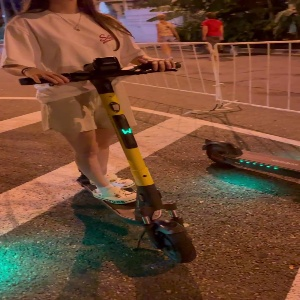human on a scooter: (3, 1, 200, 267)
